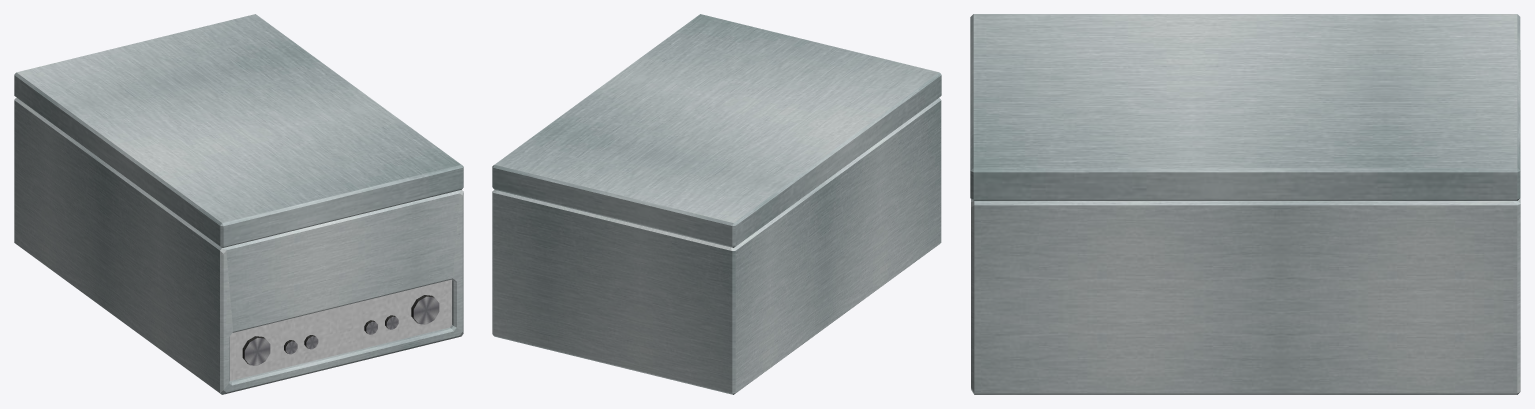
The model's file is Sealer.gltf.
3 renders of one model, left to right at view 1: azimuth 30°, elevation 25°; view 2: azimuth 150°, elevation 25°; view 3: azimuth 270°, elevation 25°, orthographic. The views are drawn at different scales.
Parts seen in each view (by area): view 1: Sealer, Sealer_lid; view 2: Sealer, Sealer_lid; view 3: Sealer, Sealer_lid.
Part boxes in pixels (<box>): Sealer: <box>14,98,463,394</box>; Sealer_lid: <box>14,14,463,247</box>; Sealer: <box>492,97,941,394</box>; Sealer_lid: <box>492,14,941,247</box>; Sealer: <box>971,50,1520,394</box>; Sealer_lid: <box>970,14,1520,200</box>.
Bounding box in the file's own units: 0.583 × 0.3935 × 0.8644.
2 materials, 2 textured.
